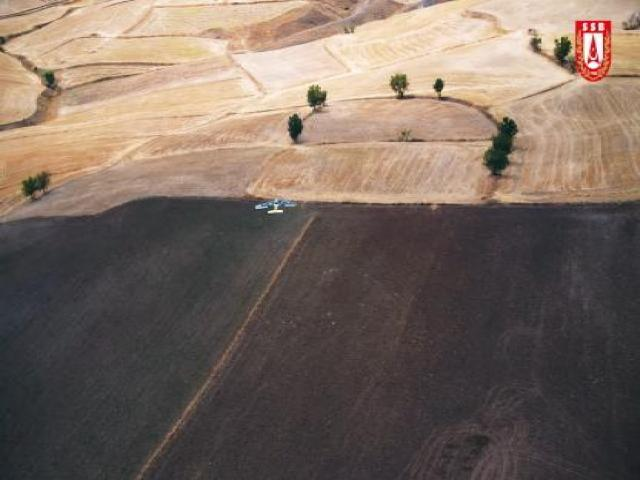uav: (253, 191, 301, 217)
